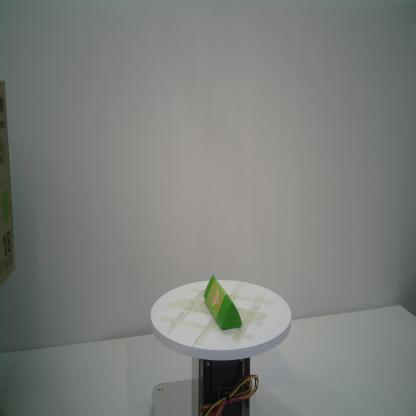Stationery: (204, 275, 242, 331)
